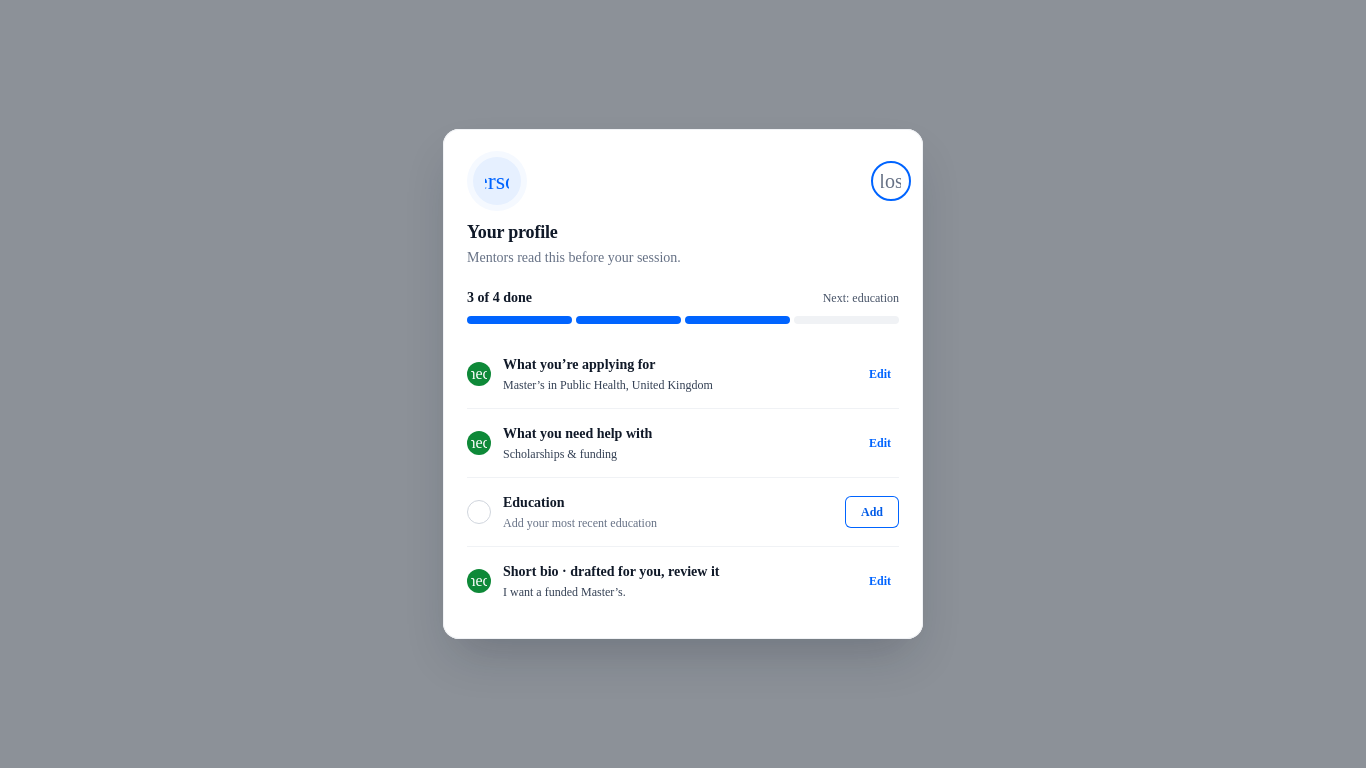
Scenario: ProfileSheet › a failed save keeps the text and says why
Click the button with aria-label "Edit short bio".
click(880, 582)  # box [861,560,899,604]
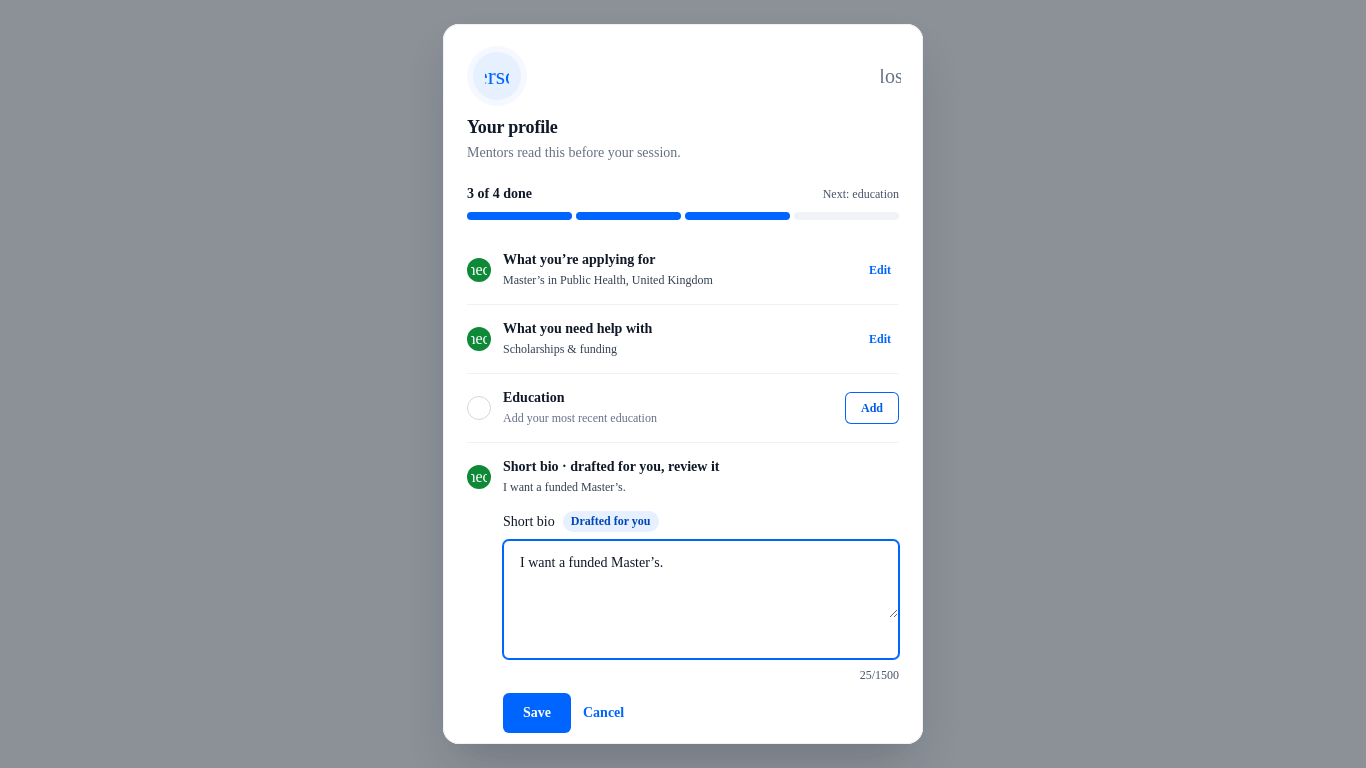
Click the button "Save".
click(537, 713)  # box [503,693,571,733]
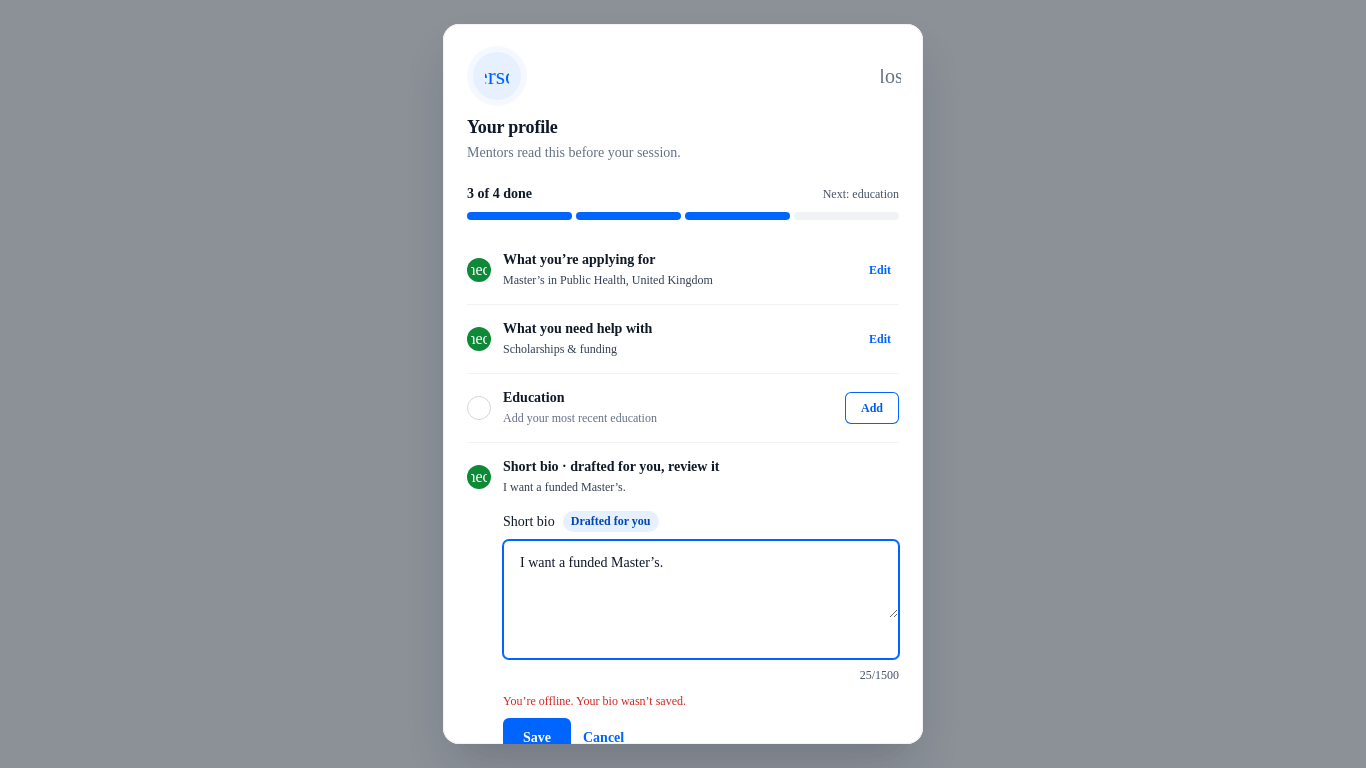
expect the text box labelled "Short bio" holds "I want a funded Master’s.": met, box [504,541,898,618]
expect the message reads "You’re offline. Your bio wasn’t saved.": met, box [503,694,686,708]
